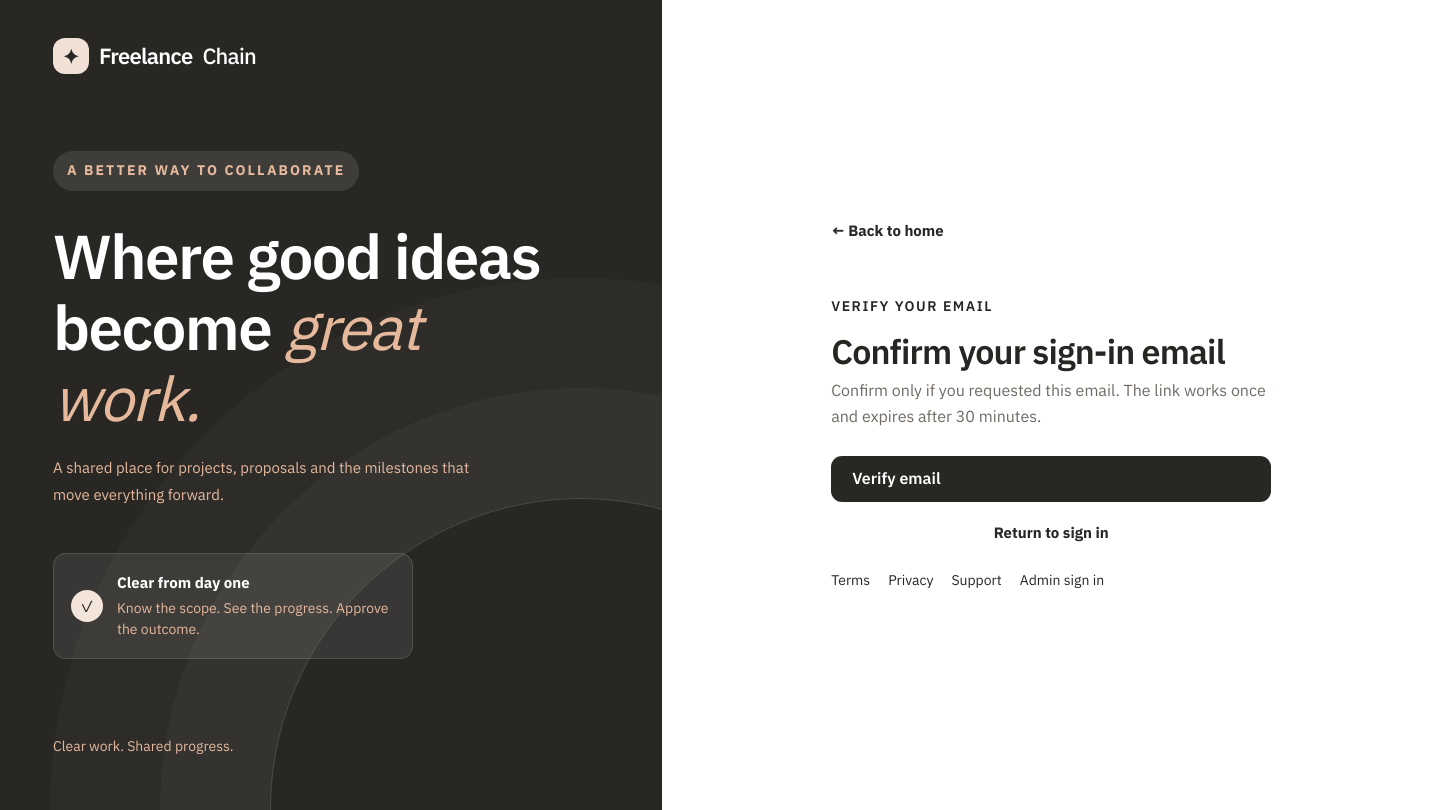
Scenario: sign-in email verification requires explicit confirmation and keeps the current session
Click the button "Verify email" at coordinates (896, 478), box [831,456,1271,502]
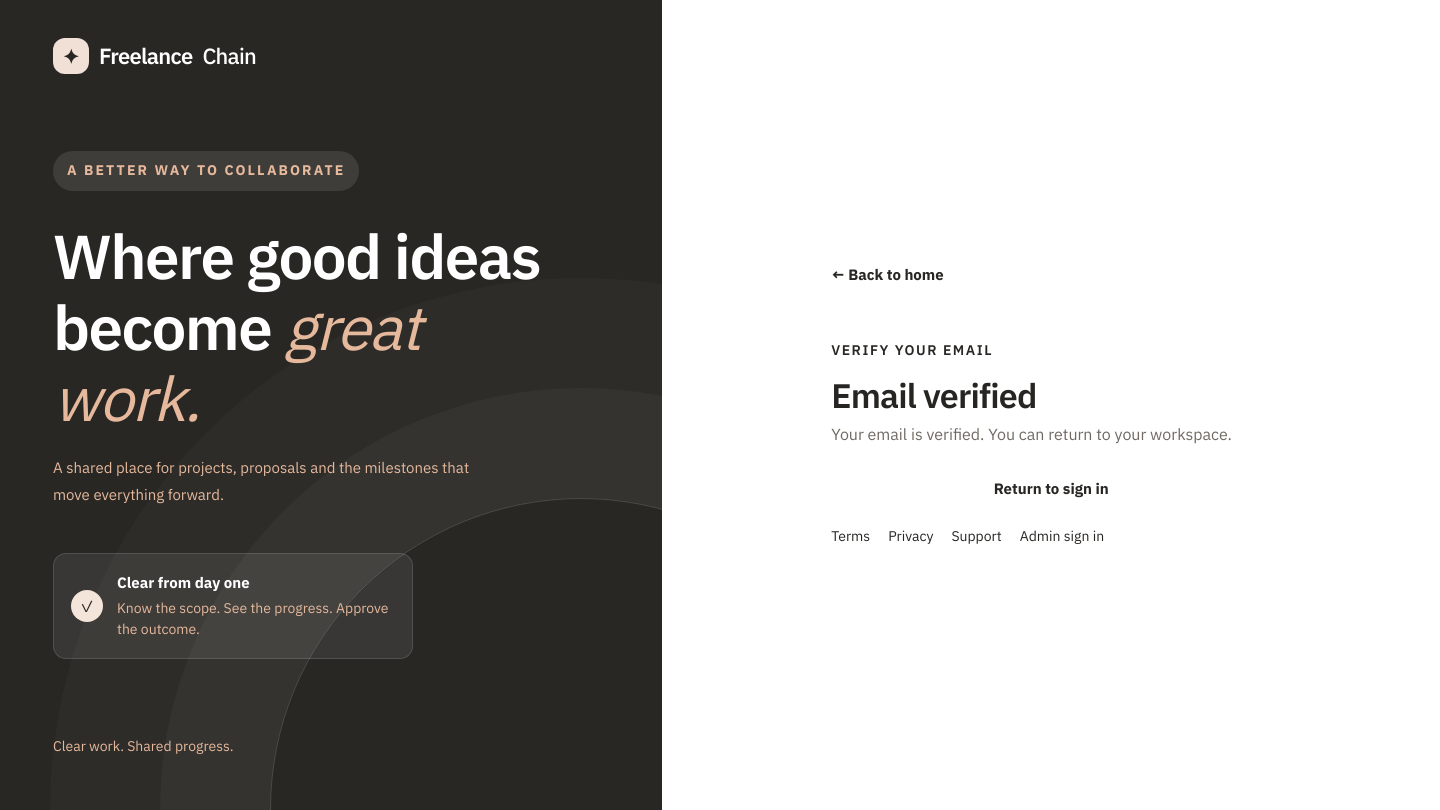
Expected: the heading "Email verified" is shown, [831,373,1036,417]
